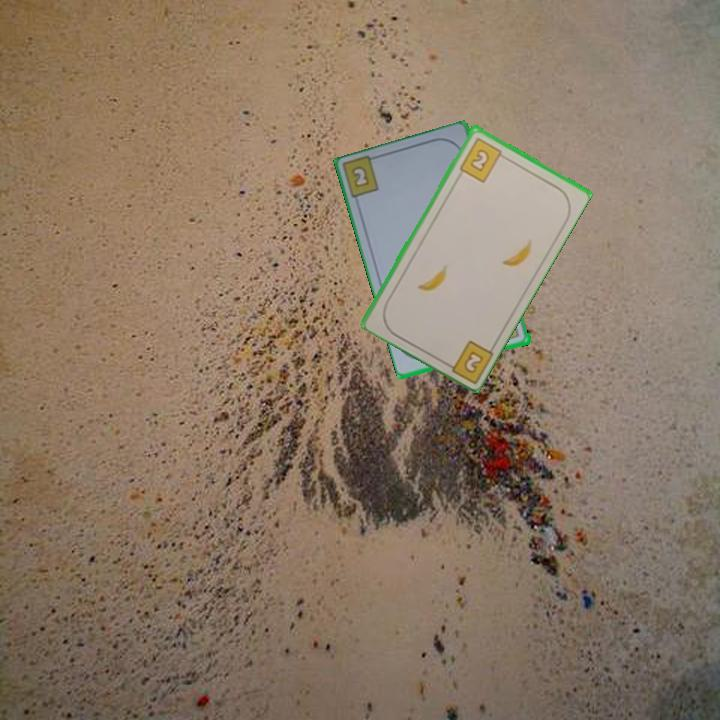2b: (455, 134, 509, 185), (439, 336, 496, 384), (348, 162, 373, 191)
